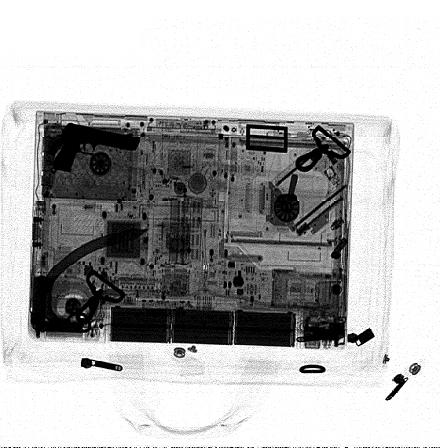Gun: (50, 122, 140, 174)
